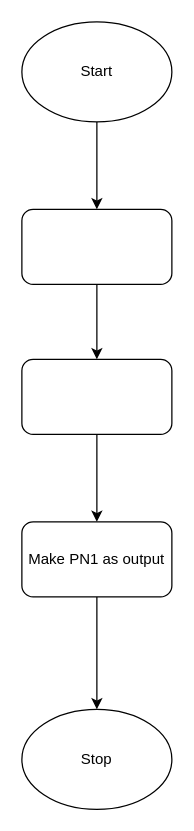
Some shapes in this 194 by 831 pixel diagram are drawn without their labels. The shapes that lost their labels are listed below. From the top down, each one's centre as x and y in pixels, then its label:
At point (96, 246): "Enable clock for GPIO Port N".
At point (96, 396): "Digitally enable the PN1".
